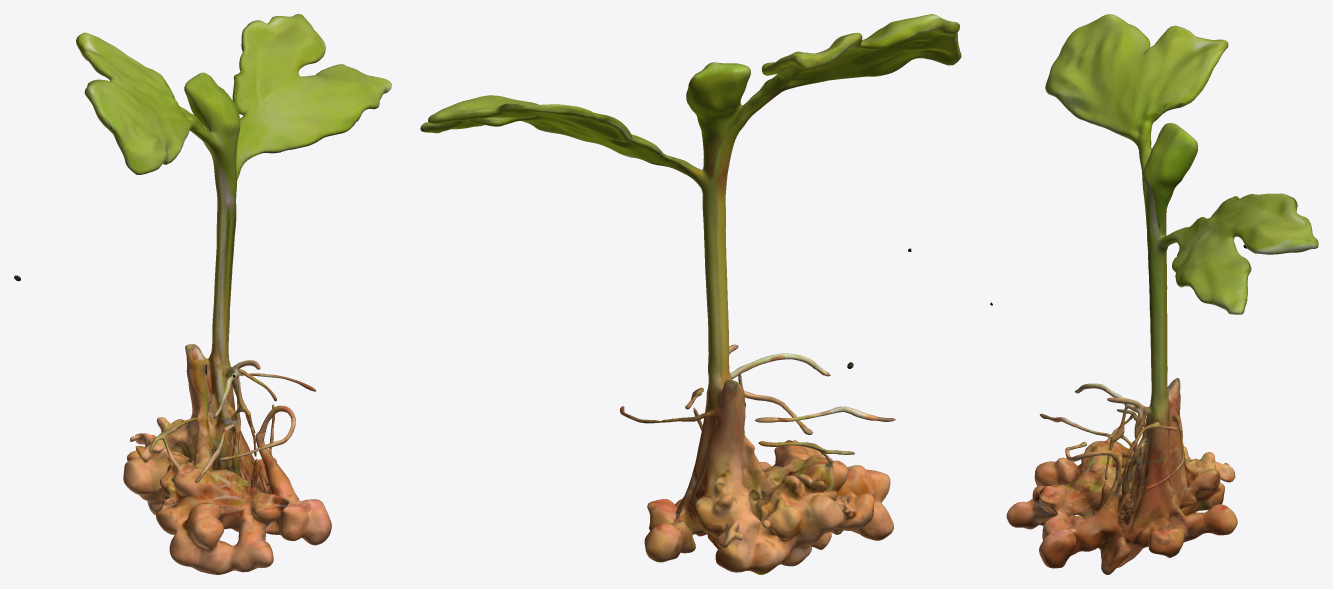
Rendered from herb0052_dup.gltf.
The picture shows the model from 3 angles, left to right: view 1: azimuth 30°, elevation 25°; view 2: azimuth 150°, elevation 25°; view 3: azimuth 270°, elevation 25°; orthographic projection. The views are drawn at different scales.
Parts seen in each view (by area): view 1: Mesh_0.019; view 2: Mesh_0.019; view 3: Mesh_0.019.
Boxes of the visible parts, left/top/right/bottom form: Mesh_0.019: left=14, top=14, right=391, bottom=574; Mesh_0.019: left=420, top=14, right=961, bottom=574; Mesh_0.019: left=990, top=14, right=1318, bottom=574.
Bounding box in the file's own units: 1.59 × 2 × 1.27.
Materials: 1 (1 with a texture image).
